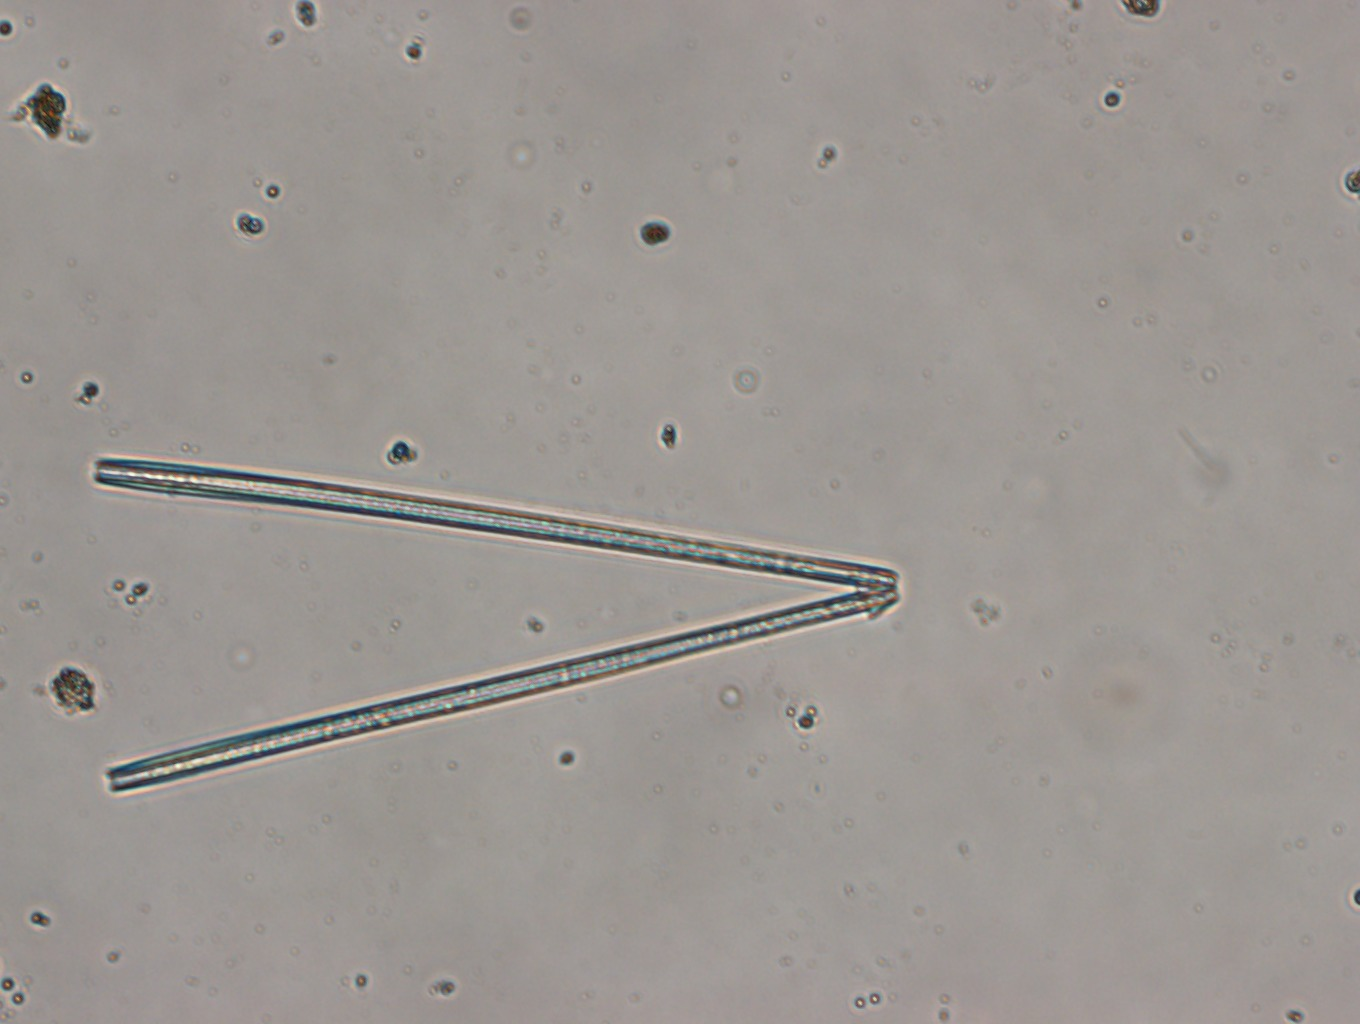thalassionema frauenfeldii: (85, 450, 924, 800)
